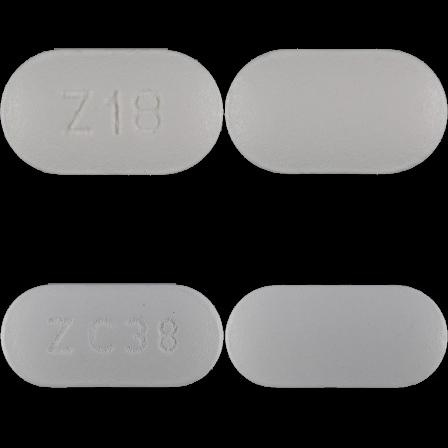63739-698: (0, 0, 224, 224)
